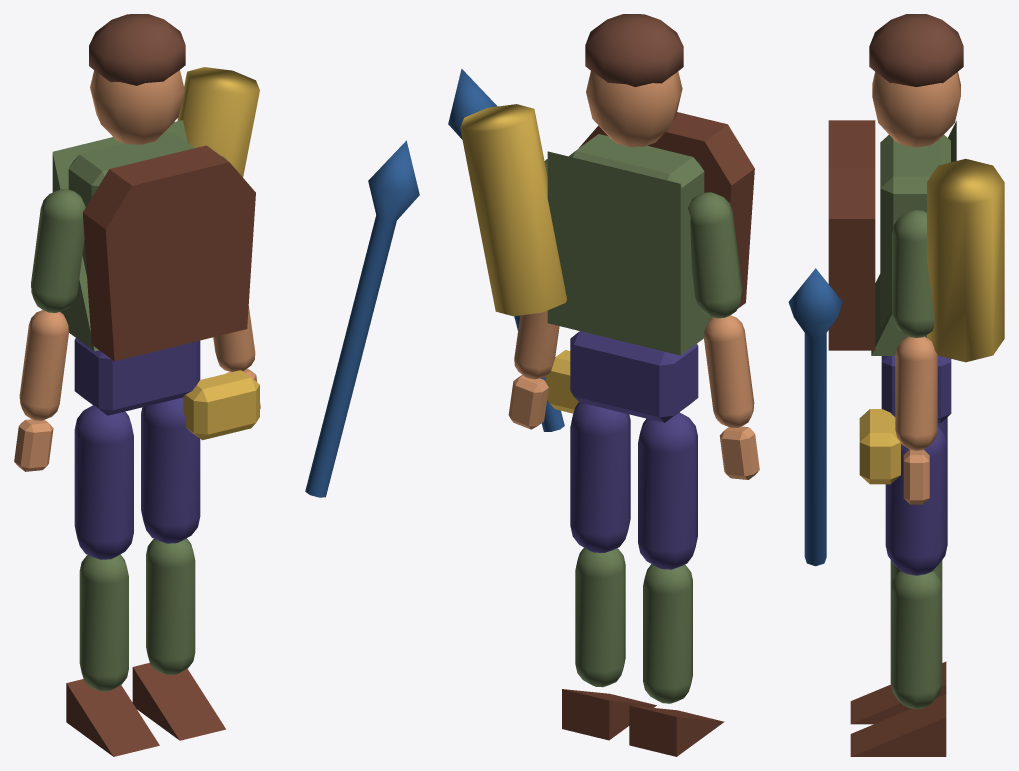
The model's file is adventurer.rustic.glb.
3 renders of one model, left to right at view 1: azimuth 30°, elevation 25°; view 2: azimuth 150°, elevation 25°; view 3: azimuth 270°, elevation 25°, orthographic.
Parts seen in each view (by area): view 1: accessory.body, accessory.main-hand, thigh.left, thigh.right, pelvis, shin.left, shin.right, accessory.back, hair, upper-arm.left, head, foot.right (+7 smaller); view 2: tunic, accessory.back, pelvis, thigh.left, thigh.right, shin.right, shin.left, accessory.body, hair, upper-arm.left, head, forearm.left (+8 smaller); view 3: accessory.back, accessory.body, accessory.main-hand, shin.right, thigh.right, hair, torso, head, upper-arm.right, forearm.right, foot.right, accessory.waist (+4 smaller).
Boxes of the visible parts, left/top/right/bottom form: accessory.body: left=82, top=145, right=255, bottom=361; accessory.main-hand: left=305, top=140, right=419, bottom=497; thigh.left: left=74, top=405, right=133, bottom=559; thigh.right: left=141, top=397, right=200, bottom=543; pelvis: left=74, top=338, right=200, bottom=415; shin.left: left=79, top=554, right=128, bottom=691; shin.right: left=146, top=538, right=195, bottom=675; accessory.back: left=177, top=67, right=259, bottom=177; hair: left=89, top=14, right=185, bottom=85; upper-arm.left: left=31, top=189, right=85, bottom=312; head: left=90, top=70, right=184, bottom=144; foot.right: left=132, top=663, right=226, bottom=740; tunic: left=547, top=151, right=712, bottom=355; accessory.back: left=460, top=104, right=567, bottom=316; pelvis: left=570, top=331, right=698, bottom=422; thigh.left: left=638, top=412, right=697, bottom=569; thigh.right: left=570, top=402, right=630, bottom=552; shin.right: left=575, top=547, right=625, bottom=687; shin.left: left=643, top=564, right=692, bottom=703; accessory.body: left=579, top=112, right=754, bottom=308; hair: left=585, top=14, right=683, bottom=87; upper-arm.left: left=688, top=192, right=742, bottom=318; head: left=586, top=71, right=682, bottom=146; forearm.left: left=704, top=315, right=754, bottom=428; accessory.back: left=927, top=158, right=1004, bottom=362; accessory.body: left=828, top=120, right=875, bottom=350; accessory.main-hand: left=788, top=268, right=842, bottom=566; shin.right: left=890, top=571, right=942, bottom=709; thigh.right: left=885, top=426, right=947, bottom=575; hair: left=869, top=14, right=963, bottom=86; torso: left=880, top=135, right=950, bottom=325; head: left=872, top=72, right=960, bottom=147; upper-arm.right: left=892, top=210, right=934, bottom=337; forearm.right: left=895, top=336, right=937, bottom=450; foot.right: left=850, top=694, right=946, bottom=756; accessory.waist: left=859, top=409, right=900, bottom=484.
Size of the model in its own units: 1.59 by 3.03 by 0.8353.
